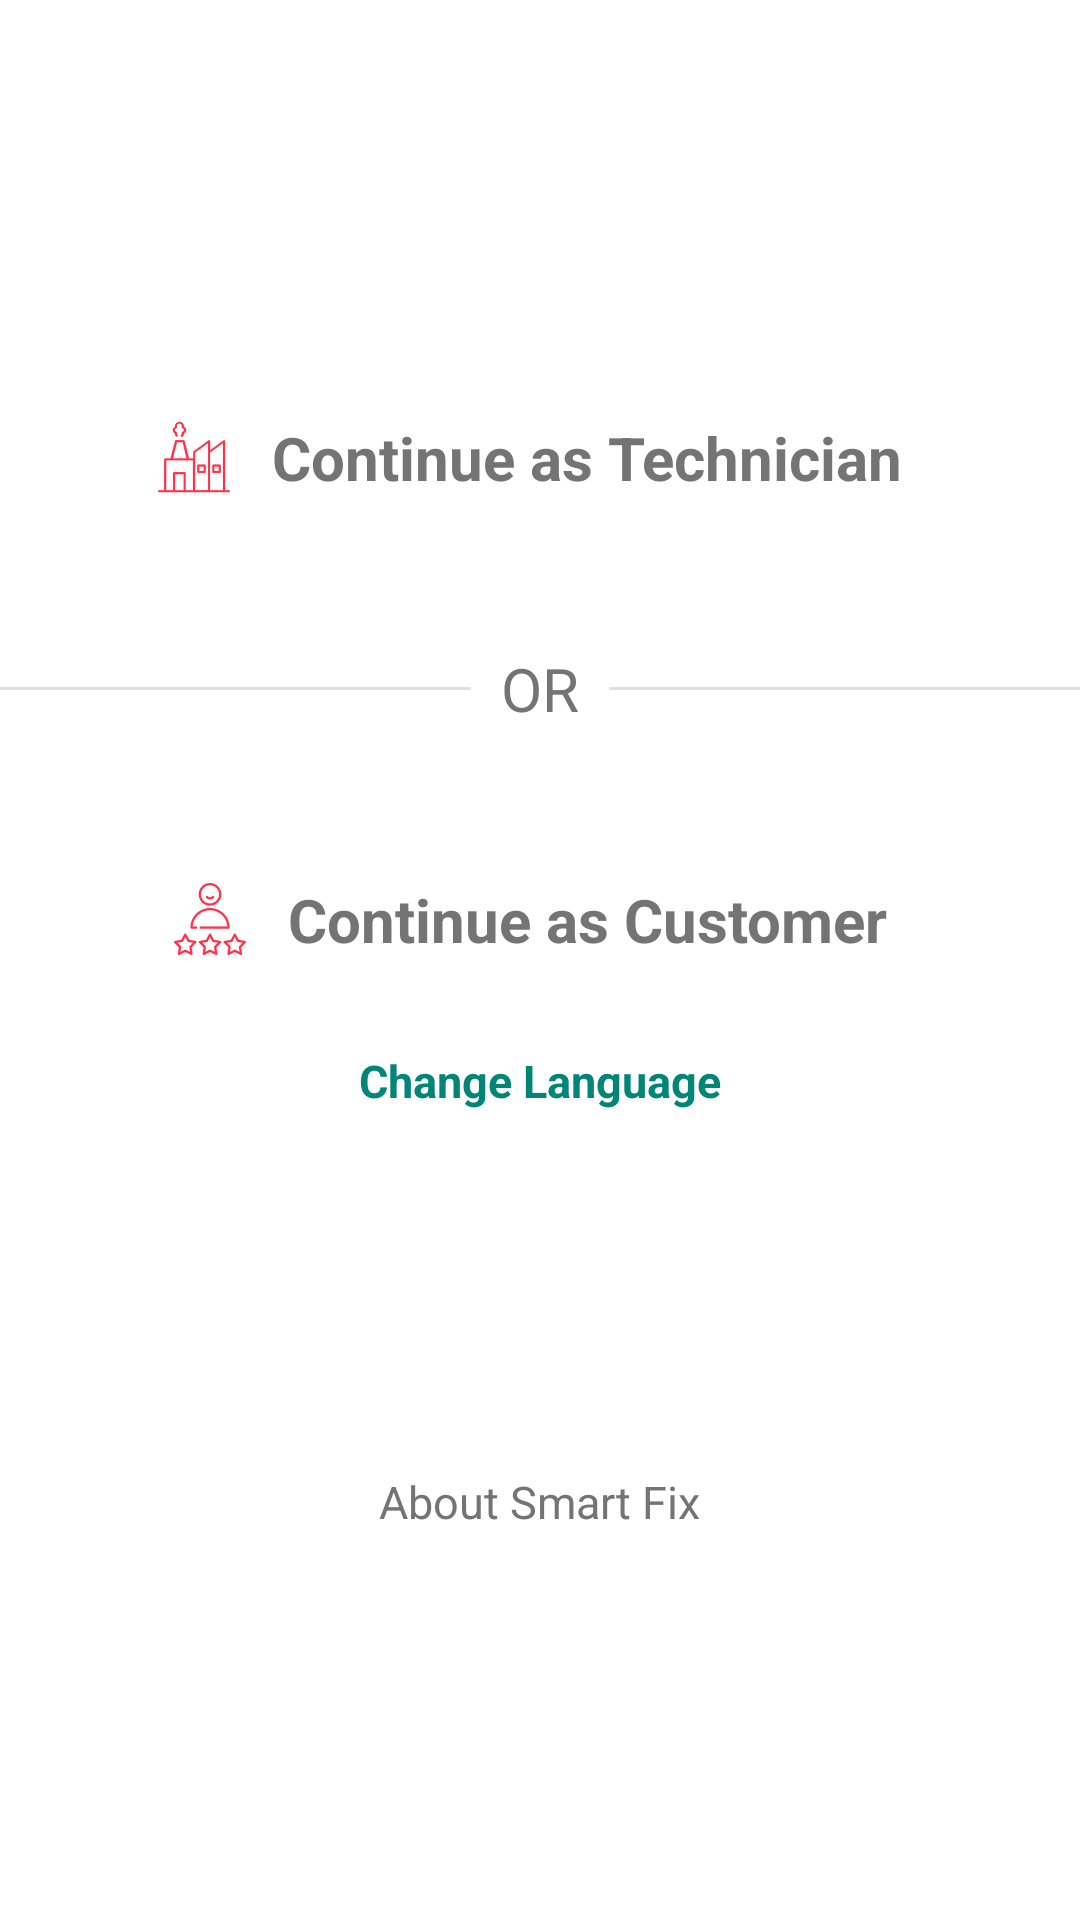

Where icons sit on this 1080*1920 app screen, as {"left": x1, "top": y1, "right": x2, "bottom": y2}:
company: {"left": 158, "top": 421, "right": 230, "bottom": 493}
